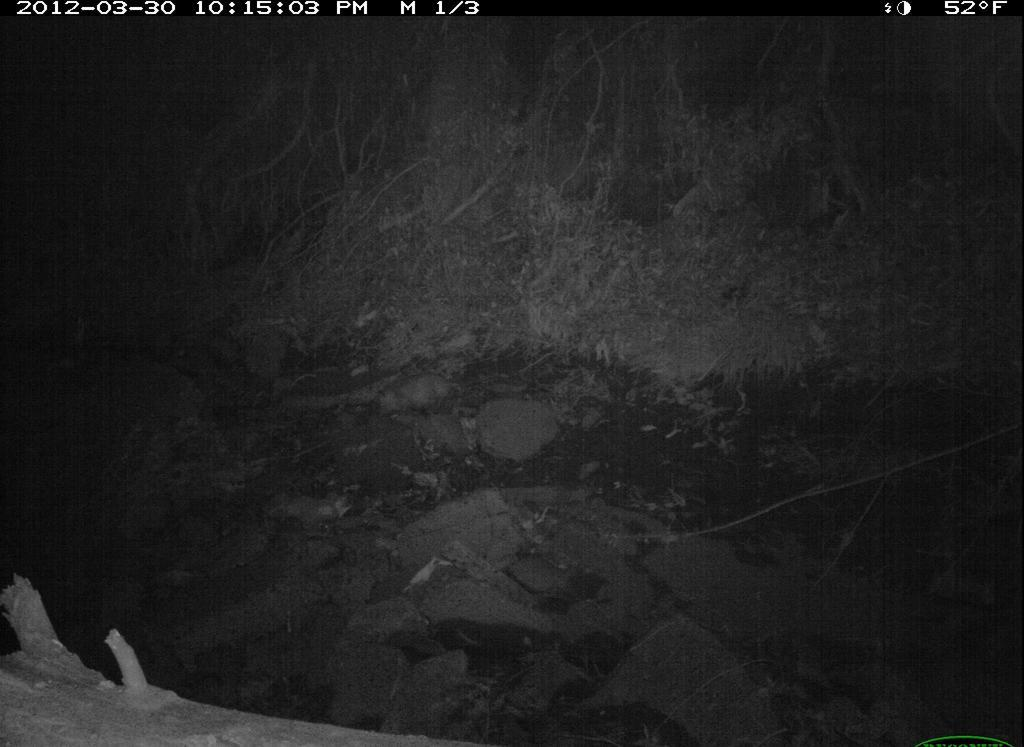opossum: (365, 364, 482, 423)
